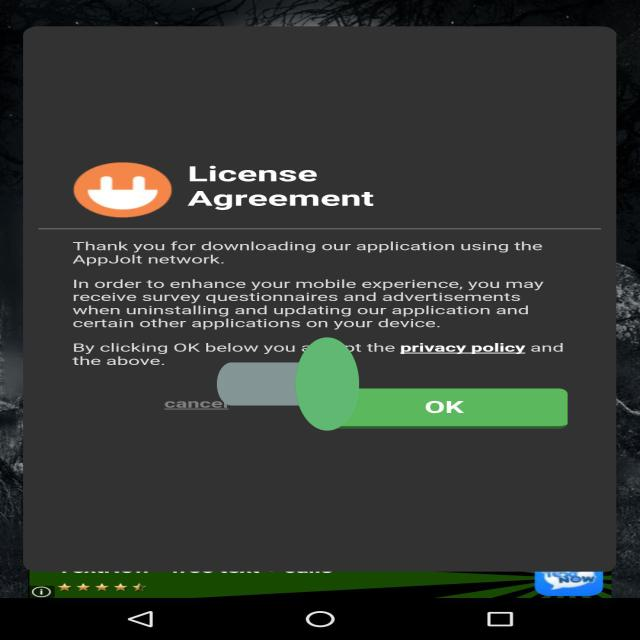social proof: (217, 280, 359, 488)
